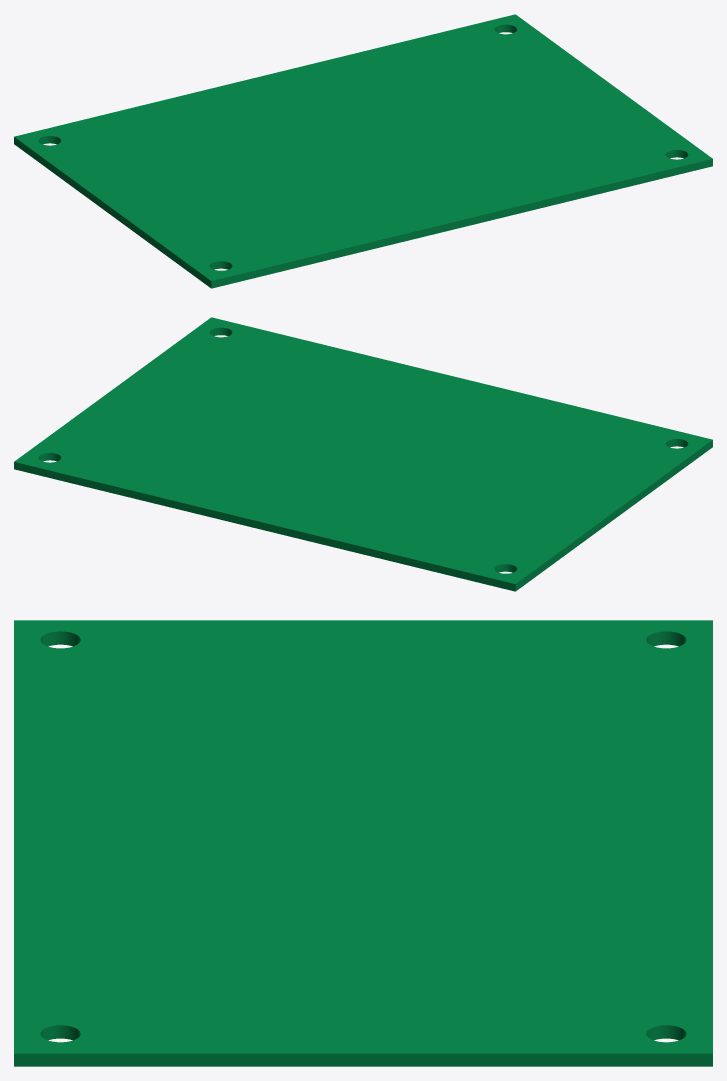
The model's file is b_LGDXRobot2_Board_001_.dae.
3 renders of one model, top to bottom at view 1: azimuth 30°, elevation 25°; view 2: azimuth 150°, elevation 25°; view 3: azimuth 270°, elevation 25°, orthographic. The views are drawn at different scales.
Parts seen in each view (by area): view 1: tmp_export_b_LGDXRobot2_Board_001_; view 2: tmp_export_b_LGDXRobot2_Board_001_; view 3: tmp_export_b_LGDXRobot2_Board_001_.
Part boxes in pixels (bbox=[...]): tmp_export_b_LGDXRobot2_Board_001_: bbox=[14, 14, 712, 288]; tmp_export_b_LGDXRobot2_Board_001_: bbox=[14, 317, 712, 591]; tmp_export_b_LGDXRobot2_Board_001_: bbox=[14, 620, 712, 1066].
Size of the model in its own units: 0.11 by 0.075 by 0.00157.
